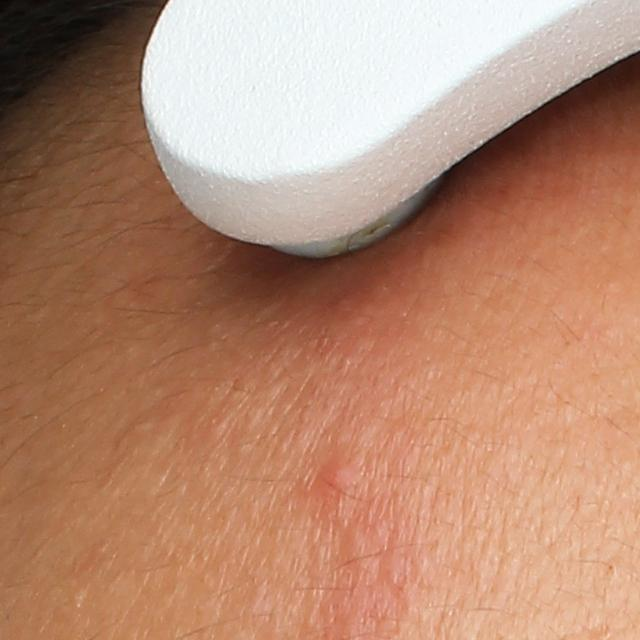comedo: (385, 565, 407, 588)
papule: (317, 454, 355, 492)
